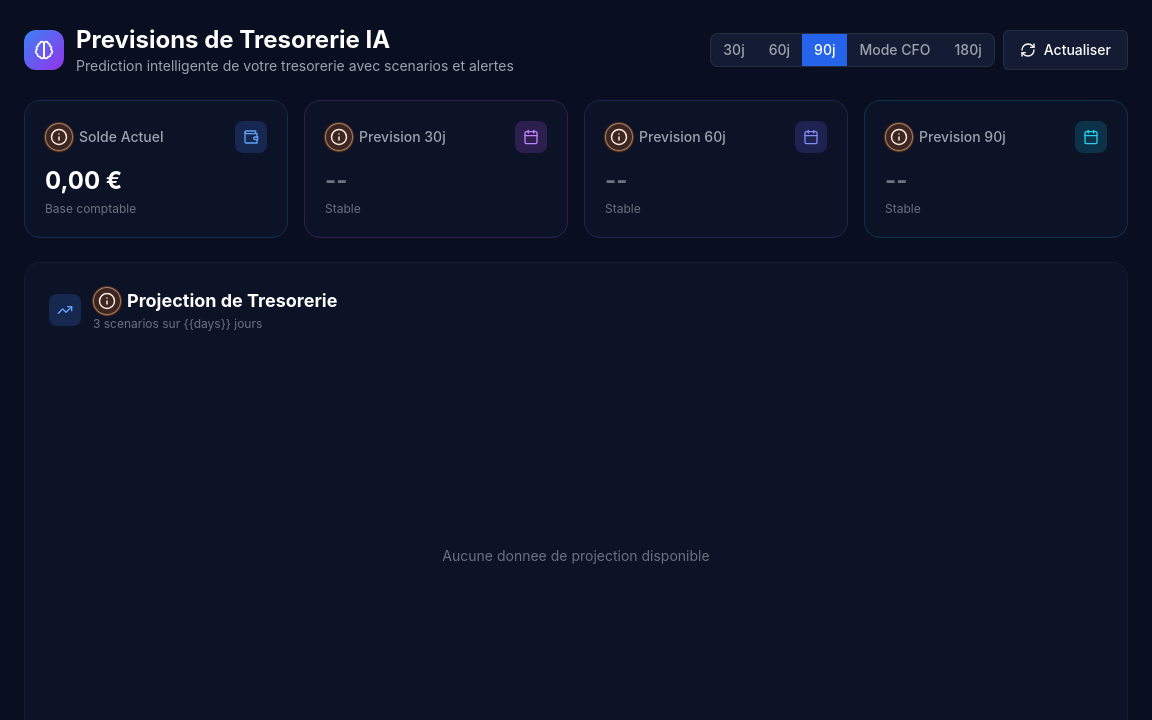
CashFlowForecastPage › shows working-capital monitoring panel for 13-week preset
Check: the text "Signal BFR - Mode CFO" is not shown
What coordinates should you click on to do the following:
click the button "Mode CFO"
I would click on:
 (895, 50)
Its box is [848,34,943,66].
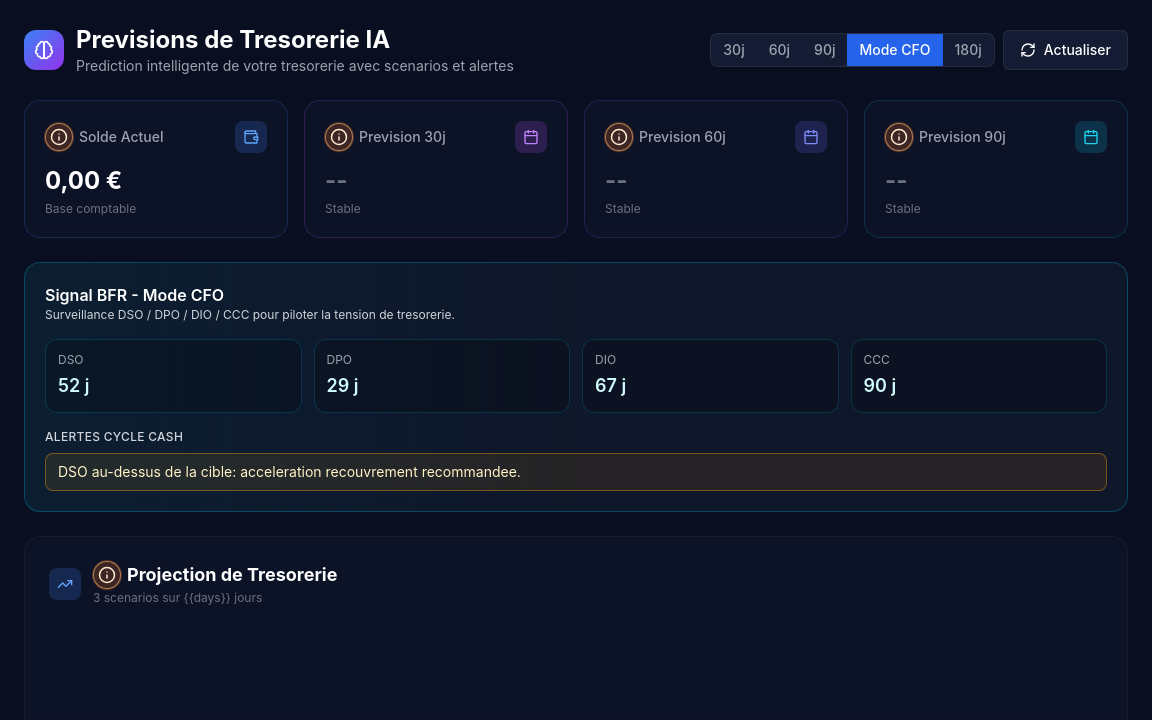
Check: the heading "Signal BFR - Mode CFO" is shown, box [45,285,224,305]
Check: the text "DSO au-dessus de la cible" is shown, box [58,463,521,480]
